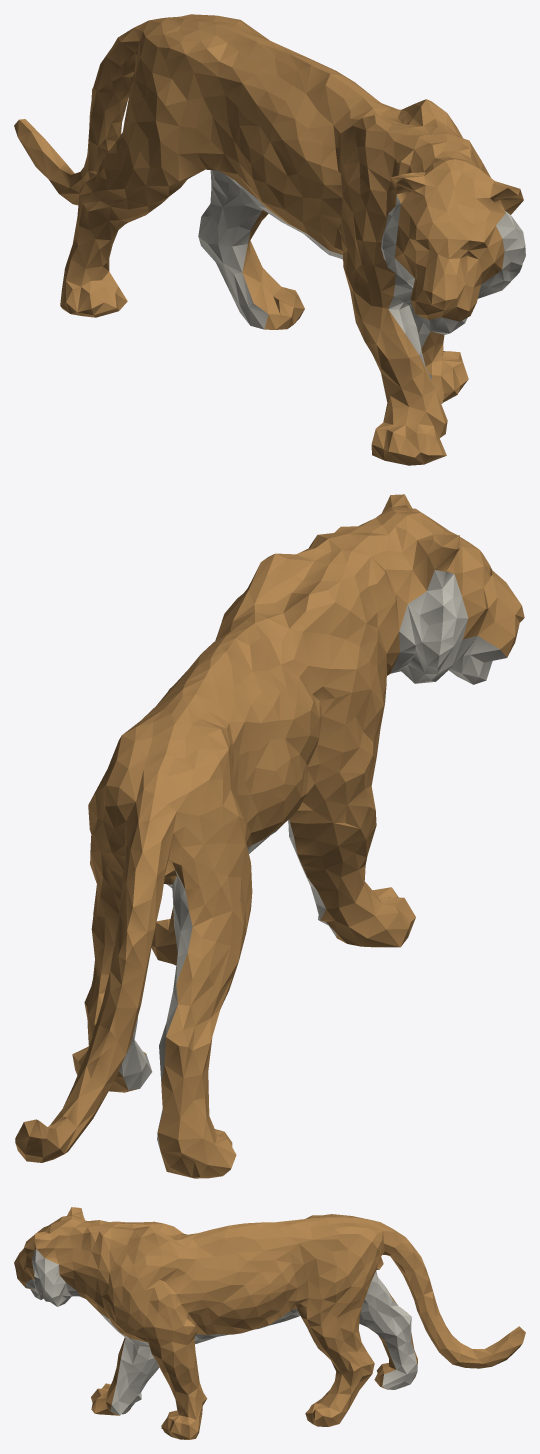
File: tiger.fbx
The picture shows the model from 3 angles, top to bottom: view 1: azimuth 30°, elevation 25°; view 2: azimuth 150°, elevation 25°; view 3: azimuth 270°, elevation 25°; orthographic projection. The views are drawn at different scales.
Parts seen in each view (by area): view 1: tigre_sumatra_photoscan; view 2: tigre_sumatra_photoscan; view 3: tigre_sumatra_photoscan.
Boxes of the visible parts, left/top/right/bottom form: tigre_sumatra_photoscan: left=14, top=14, right=525, bottom=465; tigre_sumatra_photoscan: left=15, top=494, right=524, bottom=1178; tigre_sumatra_photoscan: left=14, top=1207, right=525, bottom=1439.
Bounding box in the file's own units: 48.33 × 64.12 × 149.
